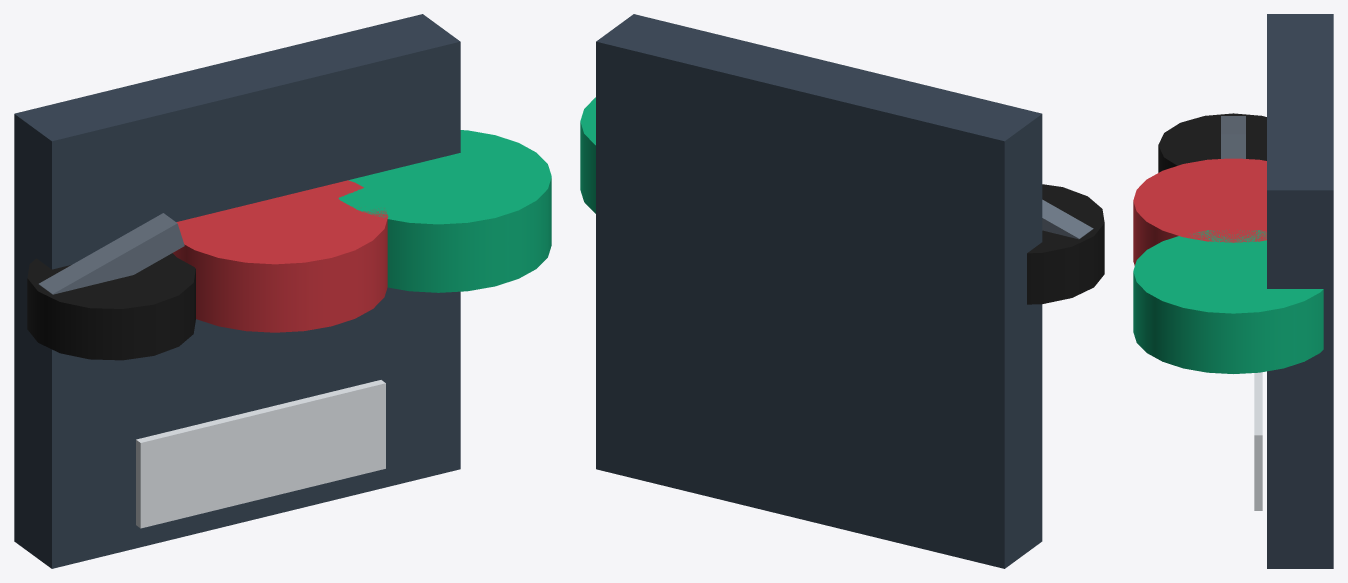
Rendered from switch.glb.
3 views of the same model, side by side, from view 1: azimuth 30°, elevation 25°; view 2: azimuth 150°, elevation 25°; view 3: azimuth 270°, elevation 25° (orthographic). The views are drawn at different scales.
Size of the model in its own units: 0.61 by 0.5 by 0.24.
